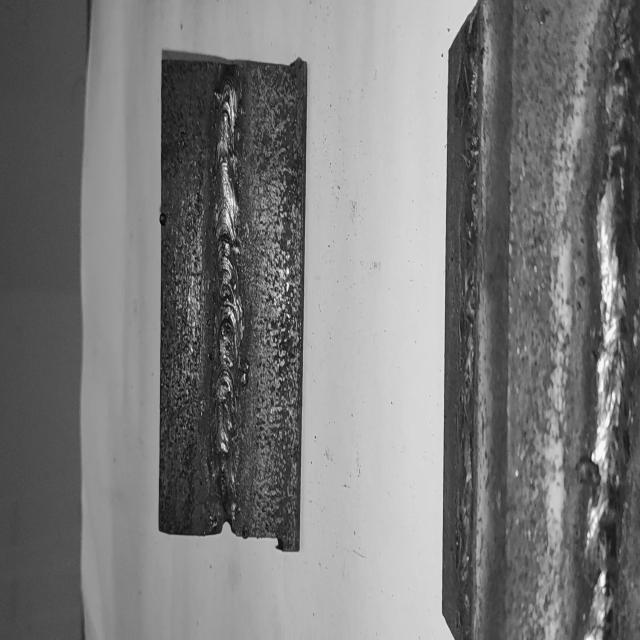Defect: (456, 29, 475, 631)
Good Weld: (590, 4, 639, 640), (215, 69, 242, 520)
